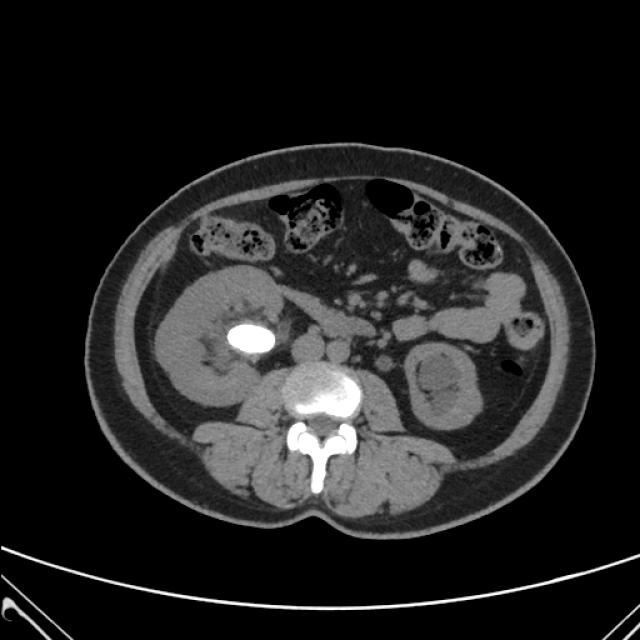kidney: (213, 307, 279, 378), (416, 357, 456, 409)
stone: (234, 327, 272, 349)
